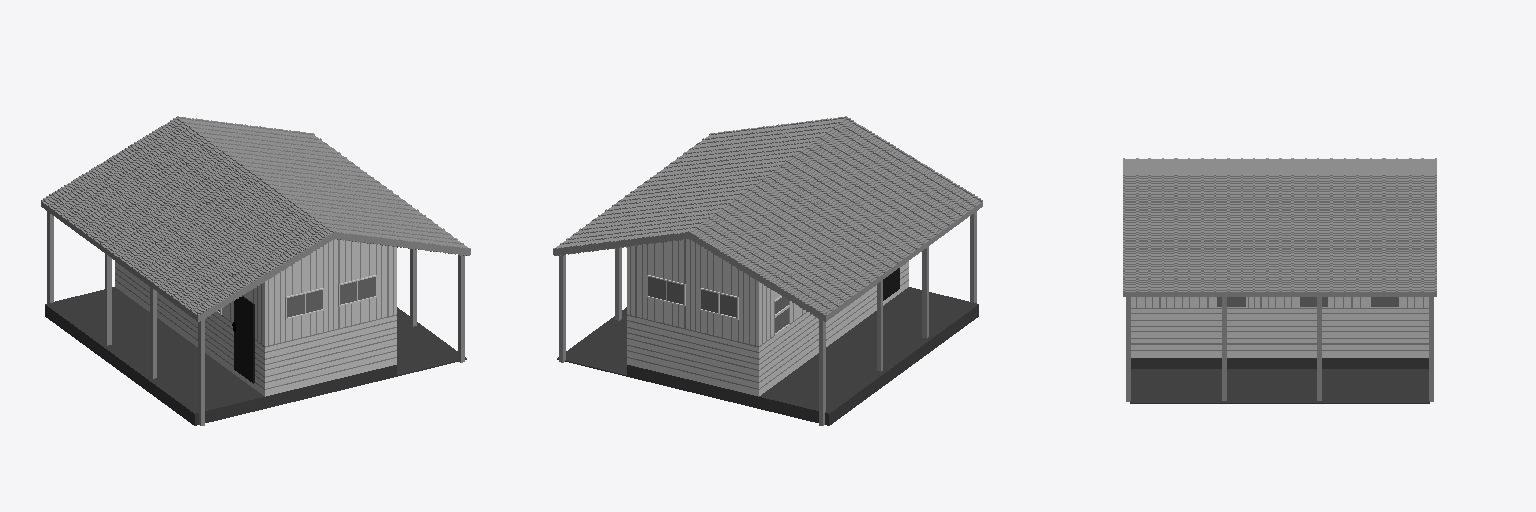
3 renders of one model, left to right at view 1: azimuth 30°, elevation 25°; view 2: azimuth 150°, elevation 25°; view 3: azimuth 270°, elevation 25°, orthographic.
Visible parts, largest first — view 1: object 1; view 2: object 1; view 3: object 1.
Part boxes in pixels (x1,y1,x2,y2): object 1: (41, 116, 470, 425); object 1: (553, 116, 982, 425); object 1: (1123, 158, 1436, 403).
Bounding box in the file's own units: 25.6 × 14.7 × 25.6.
Materials: 1 (1 with a texture image).